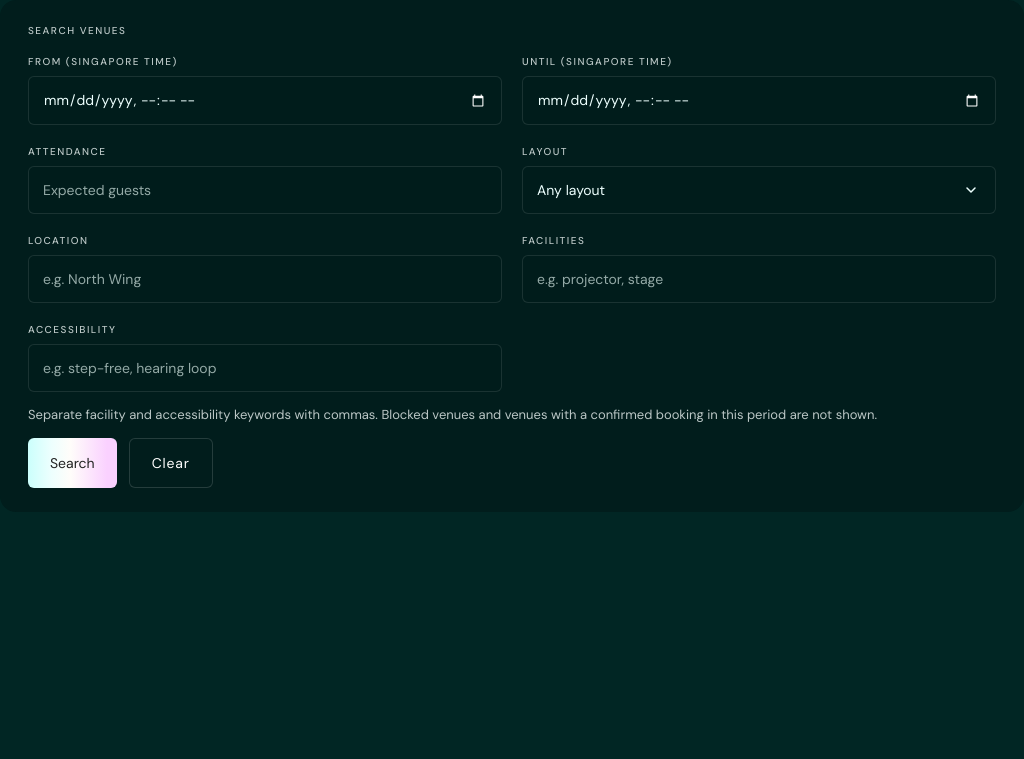
Test case: [NORMAL] [SG2-47:AC1] a manual search does not check venues against any event
Step 1. Type "2030-06-15T09:00" into the field labelled "From (Singapore time)" → coordinates (265, 100), box [28, 76, 502, 125]
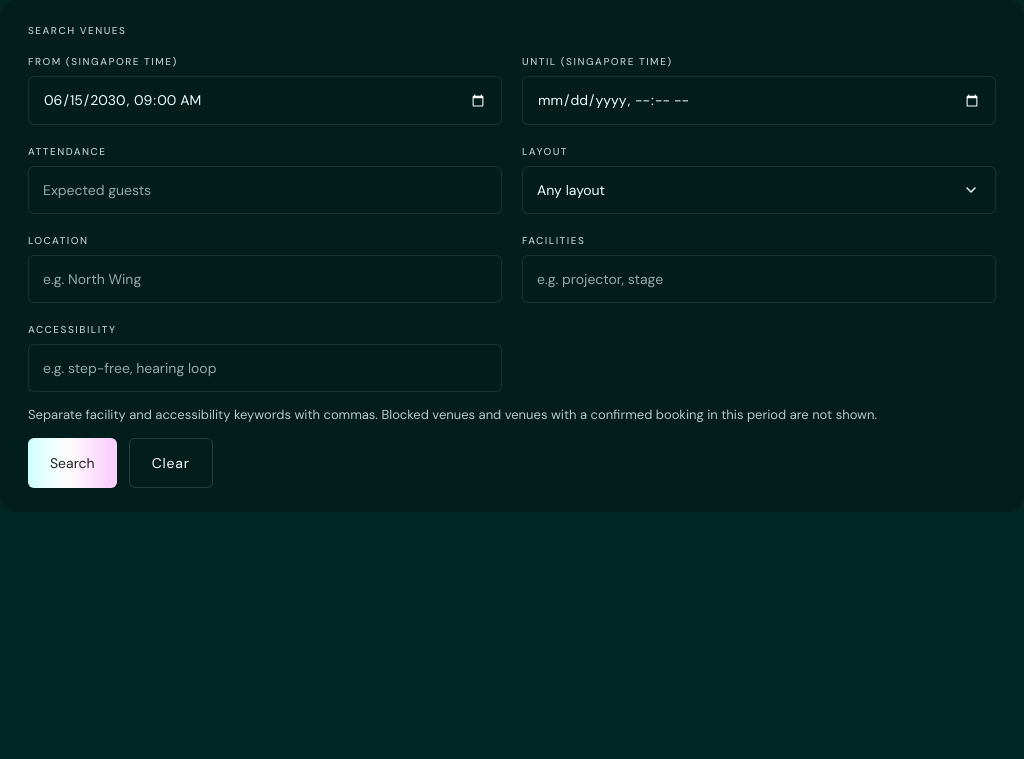
Step 2. Type "2030-06-15T17:00" into the field labelled "Until (Singapore time)" → coordinates (759, 100), box [522, 76, 996, 125]
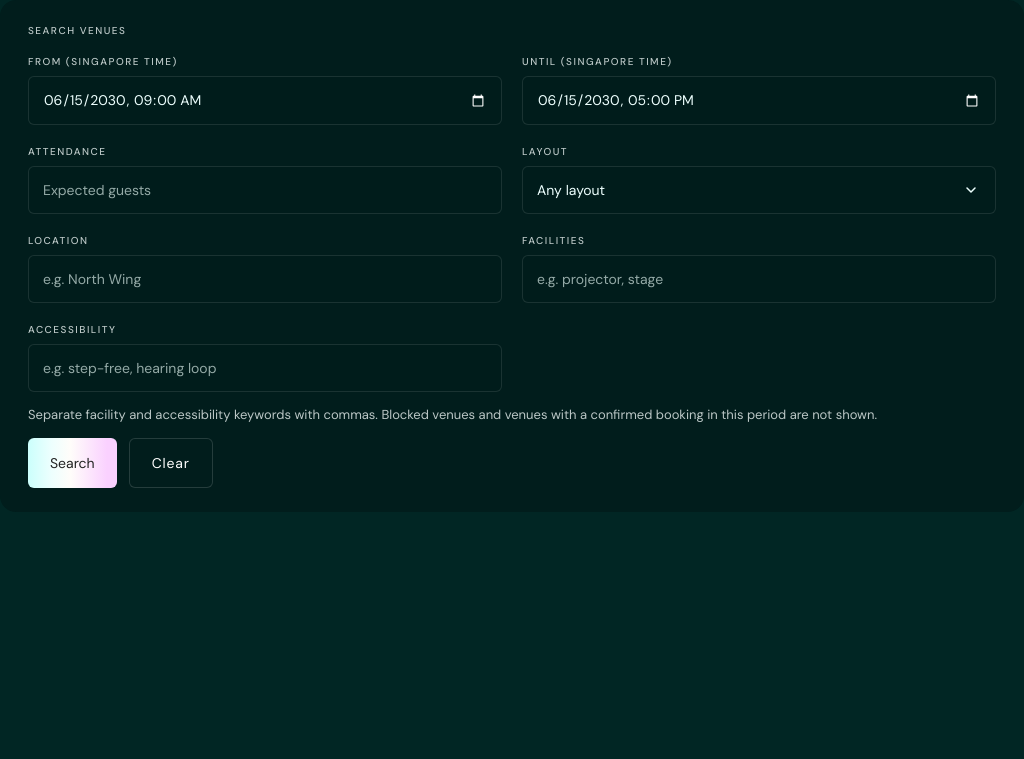
Step 3. Submit the form named "Venue search criteria", box [28, 55, 996, 488]
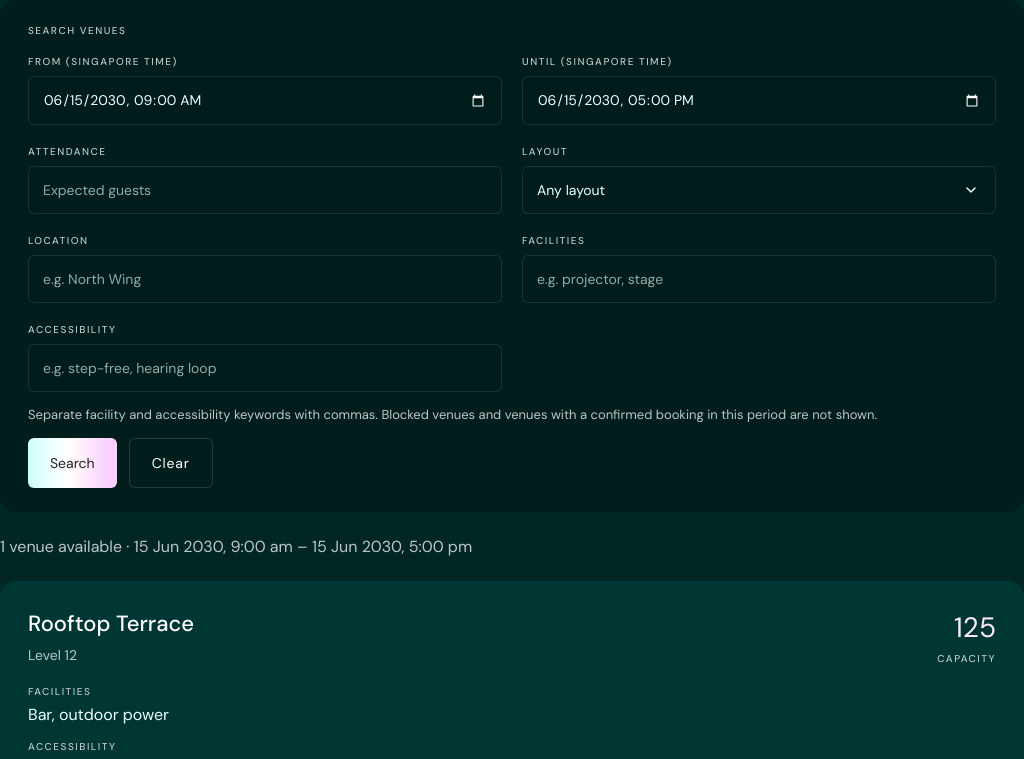
Expected: the heading "Rooftop Terrace" is shown, [28, 608, 194, 638]
